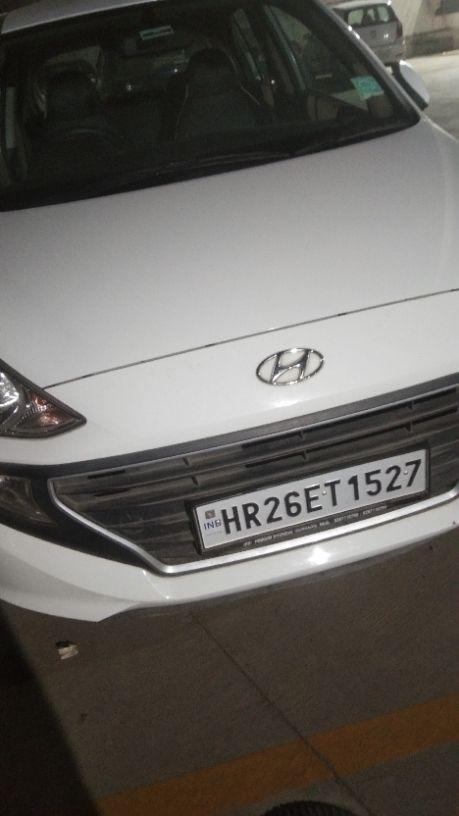license_plate: (184, 443, 431, 555)
